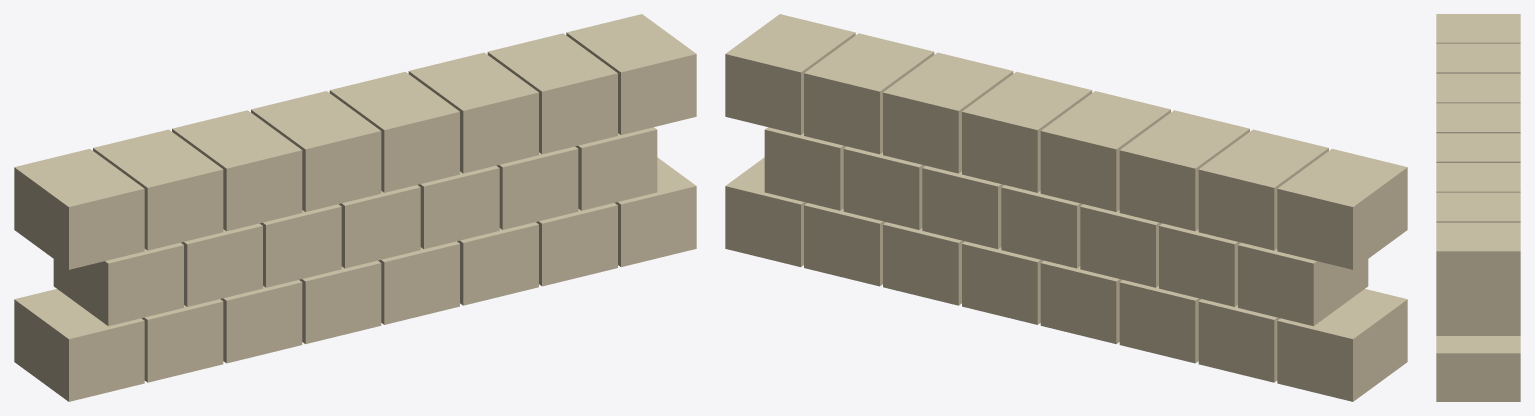
The model's file is SD_LowWall.fbx.
The picture shows the model from 3 angles, left to right: view 1: azimuth 30°, elevation 25°; view 2: azimuth 150°, elevation 25°; view 3: azimuth 270°, elevation 25°; orthographic projection. The views are drawn at different scales.
Parts seen in each view (by area): view 1: SD_LowWall; view 2: SD_LowWall; view 3: SD_LowWall.
Boxes of the visible parts, x1,y1,x2,y2 form: SD_LowWall: (14,14,696,401); SD_LowWall: (725,14,1407,401); SD_LowWall: (1436,14,1520,401).
Size of the model in its own units: 3.98 by 1.18 by 0.6.
